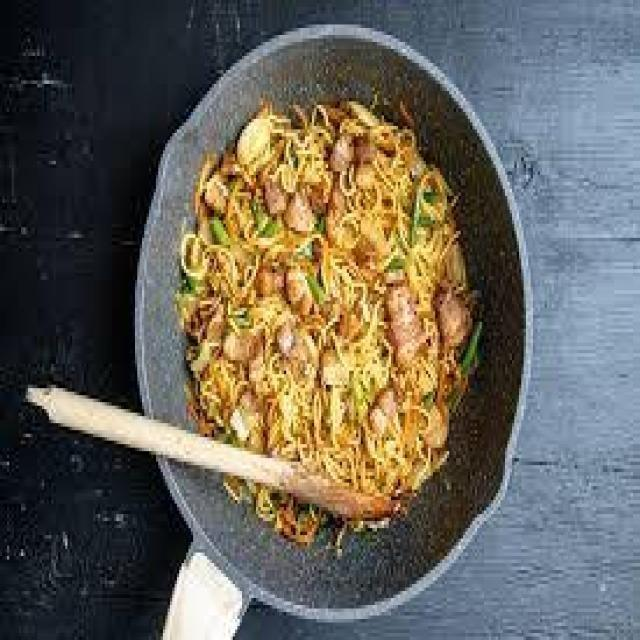pancit bihon: (185, 109, 476, 506)
